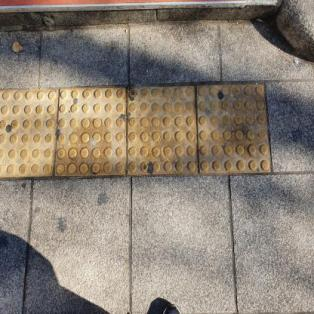Podoctatil: (0, 68, 276, 185)
